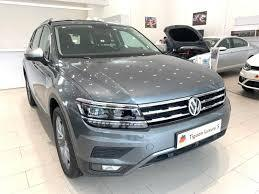volkswagen: (188, 96, 203, 117)
